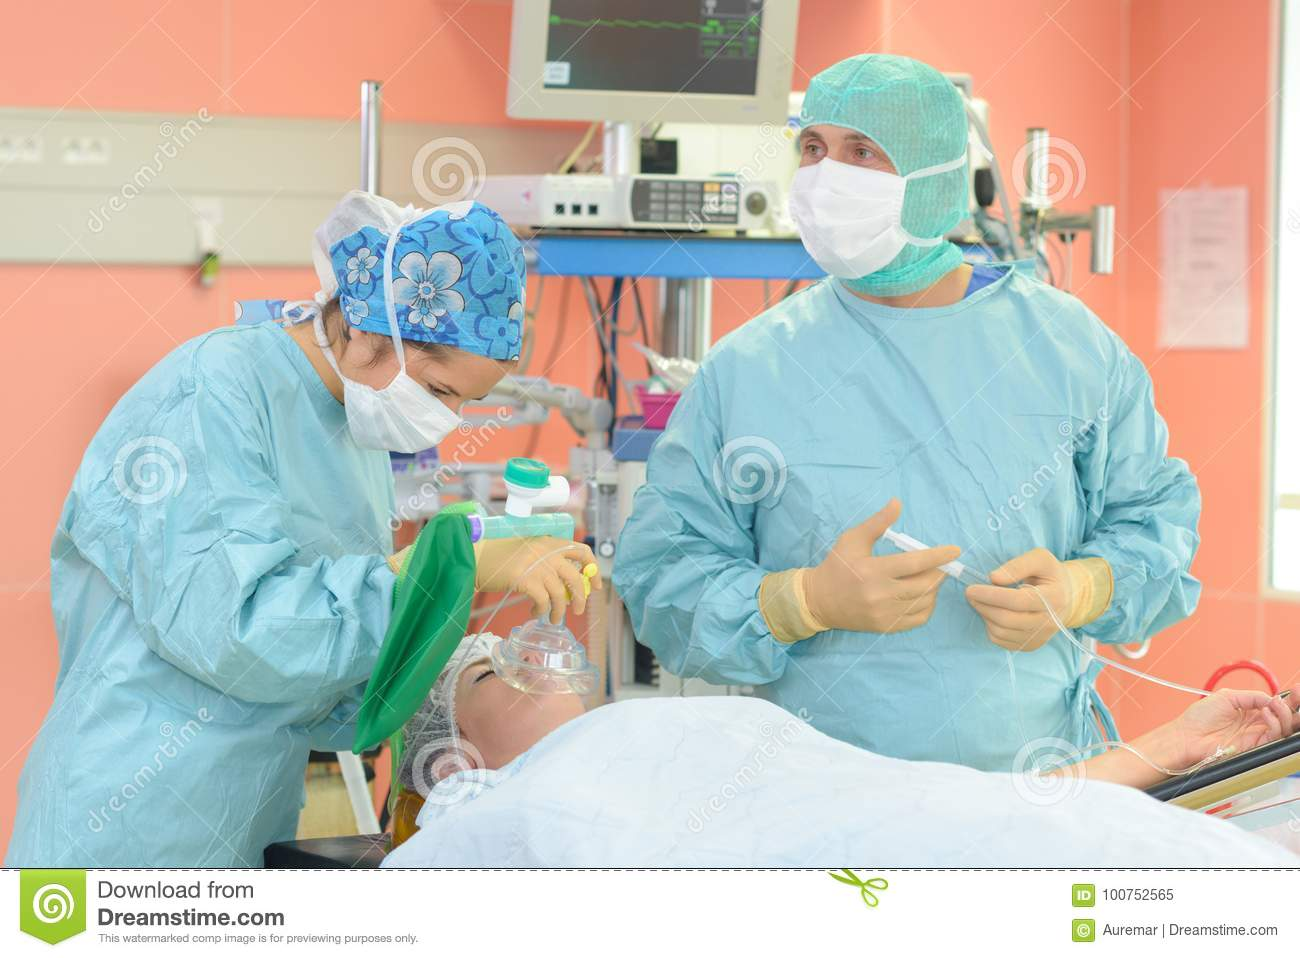mask: (788, 163, 898, 273), (347, 371, 472, 455)
